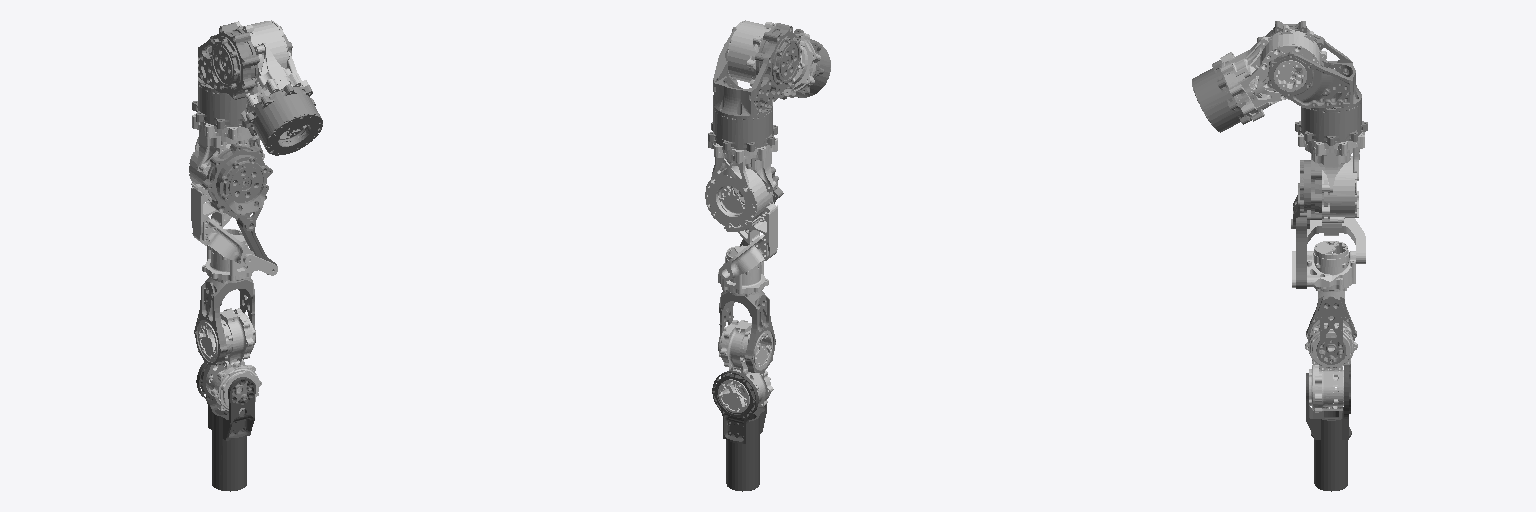
The robot description file, URDF, robot "raipal_stub-0_L":
<?xml version="1.0" encoding="utf-8"?>
<robot name="raipal_stub-0_L">
  <!-- [URDF-WRITER] Created with urdf-writer script (by CHH) on 2026-01-27 21:55:36.753710-->

  <!-- [URDF-WRITER] from module [_fixed-base] -->

  <!-- this link makes the robot fixed-base in RAISIM -->
  <link name="world"></link>

  <link name="base"></link>

  <joint name="base_fix" type="fixed">
    <origin xyz="0 0 0.8" rpy="0 0 0"/>
    <parent link="world" />
    <child link="base" />
    <axis xyz="0 0 0" />
  </joint>


  <!-- [URDF-WRITER] from module [raipal_L] -->

  <link name="L_base">
    <!-- CHH / 2025-09-01-20:14 -->
    <!-- mirrored from [L_base] (frame: R0_base)-->
    <inertial>
      <origin 
        xyz="-0.00013000 0.06389000 -0.05559000"
        rpy="0 0 0" />
      <mass value="0.79658000" />
      <inertia
          ixx="0.00074742"
          ixy="-1.892780e-6"
          ixz="-1.179560e-6"
          iyy="0.00098187"
          iyz="0.00013334"
          izz="0.00082394" />
    </inertial>
    <visual>
      <origin
        xyz="0 0 0"
        rpy="0 0 0" />
      <geometry>
        <mesh filename="../meshes/L_base.STL" />
      </geometry>
      <material name="">
        <color rgba=".6 .6 .6 1" />
      </material>
    </visual>
    <!--</collision>
      <origin
        xyz="0 0 0"
        rpy="0 0 0" />
      <geometry>
        <mesh filename="../meshes/L_base.STL" />
      </geometry>
    </collision>-->
  </link>

  <joint name="L_fix" type="fixed">
    <origin xyz="0 0 0" rpy="0 0 0"/>
    <parent link="base" />
    <child link="L_base" />
    <axis xyz="0 0 0" />
  </joint>

  <link name="L_collar">
    <!-- CHH / 2025-09-01-20:14 -->
    <!-- mirrored from [L_collar] (frame: R1_flexion)-->
    <inertial>
      <origin 
        xyz="0.00471000 1.000000e-5 0.10057000"
        rpy="0 0 0" />
      <mass value="1.72283000" />
      <inertia
          ixx="0.00466072"
          ixy="-5.127800e-7"
          ixz="-0.00028338"
          iyy="0.00434837"
          iyz="-8.010400e-7"
          izz="0.00167296" />
    </inertial>
    <visual>
      <origin
        xyz="0 0 0"
        rpy="0 0 0" />
      <geometry>
        <mesh filename="../meshes/L_collar.STL" />
      </geometry>
      <material name="">
        <color rgba="0.8 0.8 0.8 1" />
      </material>
    </visual>
    <!--</collision>
      <origin
        xyz="0 0 0"
        rpy="0 0 0" />
      <geometry>
        <mesh filename="../meshes/L_collar.STL" />
      </geometry>
    </collision>-->
  </link>

  <joint name="L1_flexion" type="revolute"> <!--[0]-->
    <origin
      xyz="0 0.037198 -0.0709"
      rpy="-1.0472 0 0" />
    <parent link="L_base" />
    <child link="L_collar" />
    <axis
      xyz="0 0 -1" />
    <limit
      lower="-1.57"
      upper="3.14"
      effort="181"
      velocity="13.9" />
    <dynamics rotor_inertia = "0.0576402034658611" />
    <!-- Calculated by CHH on 2025-09-01-20:14-->  
  </joint>

  <link name="L_shoulder">
    <!-- CHH / 2025-09-01-20:14 -->
    <!-- mirrored from [L_shoulder] (frame: R2_adduction)-->
    <inertial>
      <origin 
        xyz="-0.03309000 -0.04277000 0.04408000"
        rpy="0 0 0" />
      <mass value="1.92988000" />
      <inertia
          ixx="0.00554587"
          ixy="-0.00224326"
          ixz="-0.00046924"
          iyy="0.00422168"
          iyz="-0.00058524"
          izz="0.00699049" />
    </inertial>
    <visual>
      <origin
        xyz="0 0 0"
        rpy="0 0 0" />
      <geometry>
        <mesh filename="../meshes/L_shoulder.STL" />
      </geometry>
      <material name="">
        <color rgba="0.6 0.6 0.6 1" />
      </material>
    </visual>
    <!--</collision>
      <origin
        xyz="0 0 0"
        rpy="0 0 0" />
      <geometry>
        <mesh filename="../meshes/L_shoulder.STL" />
      </geometry>
    </collision>-->
  </link>

  <joint name="L2_adduction" type="revolute"> <!--[1]-->
    <origin
      xyz="0.0373 0 0.1418"
      rpy="1.5707963267949 1.0472 -1.5707963267949" />
    <parent link="L_collar" />
    <child link="L_shoulder" />
    <axis
      xyz="0 0 1" />
    <limit
      lower="-2.618"
      upper="0.488"
      effort="181"
      velocity="13.9" />
    <dynamics rotor_inertia = "0.0576402034658611" /> <!-- CHH / 2025-09-01-20:30-->
  </joint>

  <link name="L_humerus">
    <!-- CHH / 2025-09-01-20:14 -->
    <!-- mirrored from [L_humerus] (frame: R3_rotation)-->
    <inertial>
      <origin 
        xyz="-0.00369000 -0.00351000 0.11625000"
        rpy="0 0 0" />
      <mass value="1.96262000" />
      <inertia
          ixx="0.00777442"
          ixy="1.197057e-5"
          ixz="0.00065917"
          iyy="0.00822155"
          iyz="0.00015972"
          izz="0.00201683" />
    </inertial>
    <visual>
      <origin
        xyz="0 0 0"
        rpy="0 0 0" />
      <geometry>
        <mesh filename="../meshes/L_humerus.STL" />
      </geometry>
      <material name="">
        <color rgba="0.8 0.8 0.8 1" />
      </material>
    </visual>
    <!--</collision>
      <origin
        xyz="0 0 0"
        rpy="0 0 0" />
      <geometry>
        <mesh filename="../meshes/L_humerus.STL" />
      </geometry>
    </collision>-->
  </link>

  <joint name="L3_rotation" type="revolute"> <!--[2]-->
    <origin
      xyz="-0.06 -0.06025 0.0373"
      rpy="1.5707963267949 1.5707963267949 0" />
    <parent link="L_shoulder" />
    <child link="L_humerus" />
    <axis
      xyz="0 0 1" />
    <limit
      lower="-3.14"
      upper="3.14"
      effort="181"
      velocity="13.9" />
    <dynamics rotor_inertia = "0.0576402034658611" /> <!-- CHH / 2025-09-01-20:30-->
  </joint>

  <link name="L_elb_input">
    <!-- CHH / 2025-09-01-20:14 -->
    <!-- mirrored from [L_elb_input] (frame: R4a_elbow_power)-->
    <inertial>
      <origin 
        xyz="-2.000000e-5 -0.00335000 0.05897000"
        rpy="0 0 0" />
      <mass value="0.83412000" />
      <inertia
          ixx="0.00071114"
          ixy="-7.660000e-7"
          ixz="-9.255500e-7"
          iyy="0.00059983"
          iyz="5.504818e-5"
          izz="0.00080767" />
    </inertial>
    <visual>
      <origin
        xyz="0 0 0"
        rpy="0 0 0" />
      <geometry>
        <mesh filename="../meshes/L_elb_input.STL" />
      </geometry>
      <material name="">
        <color rgba="0.6 0.6 0.6 1" />
      </material>
    </visual>
    <!--</collision>
      <origin
        xyz="0 0 0"
        rpy="0 0 0" />
      <geometry>
        <mesh filename="../meshes/L_elb_input.STL" />
      </geometry>
    </collision>-->
  </link>

  <joint name="L4a_elbow_power" type="revolute"> <!--[3]-->
    <origin
      xyz="0 -0.0373 0.1418"
      rpy="-1.5707963267949 0 0" />
    <parent link="L_humerus" />
    <child link="L_elb_input" />
    <axis
      xyz="0 0 -1" />
    <limit
      lower="0"
      upper="1.556"
      effort="181"
      velocity="13.9" />
    <dynamics rotor_inertia = "0.0576402034658611" /> <!-- CHH / 2025-09-01-20:30-->
  </joint>

  <link name="L_elb_bar">
    <!-- CHH / 2025-09-01-20:14 -->
    <!-- mirrored from [L_elb_bar] (frame: R4b_elbow_bar_input)-->
    <inertial>
      <origin 
        xyz="0.04274000 -0.00159000 -4.000000e-5"
        rpy="0 0 0" />
      <mass value="0.05314000" />
      <inertia
          ixx="2.335610e-6"
          ixy="0.0"
          ixz="0.0"
          iyy="6.149582e-5"
          iyz="3.110000e-9"
          izz="6.199993e-5" />
    </inertial>
    <visual>
      <origin
        xyz="0 0 0"
        rpy="0 0 0" />
      <geometry>
        <mesh filename="../meshes/L_elb_bar.STL" />
      </geometry>
      <material name="">
        <color rgba="0.5 0.5 0.5 1" />
      </material>
    </visual>
    <!--</collision>
      <origin
        xyz="0 0 0"
        rpy="0 0 0" />
      <geometry>
        <mesh filename="../meshes/L_elb_bar.STL" />
      </geometry>
    </collision>-->
  </link>

  <joint name="L4b_elbow_bar_input" type="revolute">  <!--[4-unpowered]-->
    <origin
      xyz="0.00134978286029327 -0.0599848154638326 0.0812119041053838"
      rpy="0 0 -1.12941902735751" />
    <parent link="L_elb_input" />
    <child link="L_elb_bar" />
    <axis
      xyz="0 0 1" />
    <limit
      lower="0"
      upper="1.802"
      effort="0"
      velocity="100" />
  </joint>

  <link name="L_ulna">
    <!-- CHH / 2025-09-01-20:14 -->
    <!-- mirrored from [L_ulna] (frame: R4_elbow)-->
    <inertial>
      <origin 
        xyz="0.00533000 -0.01576000 -0.03891000"
        rpy="0 0 0" />
      <mass value="0.36947000" />
      <inertia
          ixx="0.00032310"
          ixy="1.385696e-5"
          ixz="-4.244104e-5"
          iyy="0.00036383"
          iyz="5.919040e-6"
          izz="0.00020708" />
    </inertial>
    <visual>
      <origin
        xyz="0 0 0"
        rpy="0 0 0" />
      <geometry>
        <mesh filename="../meshes/L_ulna.STL" />
      </geometry>
      <material name="">
        <color rgba="0.8 0.8 0.8 1" />
      </material>
    </visual>
    <!--</collision>
      <origin
        xyz="0 0 0"
        rpy="0 0 0" />
      <geometry>
        <mesh filename="../meshes/L_ulna.STL" />
      </geometry>
    </collision>-->
  </link>

  <joint name="L4_elbow" type="revolute">  <!--[5-unpowered]-->
    <origin
      xyz="0 0.043912 0.25475"
      rpy="-1.5707963267949 0 0" />
    <parent link="L_humerus" />
    <child link="L_ulna" />
    <axis
      xyz="0 0 1" />
    <limit
      lower="0"
      upper="2.2689"
      effort="0"
      velocity="100" />
  </joint>

  <link name="L_radius">
    <!-- CHH / 2025-09-01-20:14 -->
    <!-- link name: [L_radius]-->
    <!-- frame: [L5_roll]-->
    <inertial>
      <origin 
        xyz="0.00151000 0.0 0.10290000"
        rpy="0 0 0" />
      <mass value="0.42307000" />
      <inertia
          ixx="0.00112662"
          ixy="1.975000e-8"
          ixz="-5.589578e-5"
          iyy="0.00120471"
          iyz="-1.556000e-8"
          izz="0.00024138" />
    </inertial>
    <visual>
      <origin
        xyz="0 0 0"
        rpy="0 0 0" />
      <geometry>
        <mesh filename="../meshes/L_radius.STL" />
      </geometry>
      <material name="">
        <color rgba="0.6 0.6 0.6 1" />
      </material>
    </visual>
    <!--<collision>
      <origin
        xyz="0 0 0"
        rpy="0 0 0" />
      <geometry>
        <mesh filename="../meshes/L_radius.STL" />
      </geometry>
    </collision>-->
  </link>

  <joint name="L5_roll" type="revolute"> <!--[6]-->
    <origin
      xyz="0 0.0135819531869474 -0.0439119041053754"
      rpy="1.5707963267949 0 0" />
    <parent link="L_ulna" />
    <child link="L_radius" />
    <axis
      xyz="0 0 1" />
    <limit
      lower="-1.57"
      upper="1.57"
      effort="12.61"
      velocity="53.8" />
    <dynamics rotor_inertia = "0.000540543349430043" /> <!-- CHH / 2025-09-01-20:30-->
  </joint>

  <link name="L_carpal">
    <!-- CHH / 2025-09-01-20:14 -->
    <!-- link name: [L_carpal]-->
    <!-- frame: [L6_pitch]-->
    <inertial>
      <origin 
        xyz="-0.00117000 -0.03421000 0.02964000"
        rpy="0 0 0" />
      <mass value="0.67981000" />
      <inertia
          ixx="0.00128813"
          ixy="-3.134577e-5"
          ixz="3.268690e-6"
          iyy="0.00040998"
          iyz="9.323146e-5"
          izz="0.00126953" />
    </inertial>
    <visual>
      <origin
        xyz="0 0 0"
        rpy="0 0 0" />
      <geometry>
        <mesh filename="../meshes/L_carpal.STL" />
      </geometry>
      <material name="">
        <color rgba="0.8 0.8 0.8 1" />
      </material>
    </visual>
    <!--<collision>
      <origin
        xyz="0 0 0"
        rpy="0 0 0" />
      <geometry>
        <mesh filename="../meshes/L_carpal.STL" />
      </geometry>
    </collision>-->
  </link>

  <joint name="L6_pitch" type="revolute"> <!--[7]-->
    <origin
      xyz="-0.0337 0 0.153581953186935"
      rpy="-1.5707963267949 0 -1.5707963267949" />
    <parent link="L_radius" />
    <child link="L_carpal" />
    <axis
      xyz="0 0 -1" />
    <limit
      lower="-2.0944"
      upper="2.0944"
      effort="12.61"
      velocity="53.8" />
    <dynamics rotor_inertia = "0.000540543349430043" /> <!-- CHH / 2025-09-01-20:30-->
  </joint>

  <link name="L_ee">
    <!-- CHH / 2025-09-01-20:14 -->
    <!-- link name: [L_ee]-->
    <!-- frame: [L7_yaw]-->
    <inertial>
      <origin 
        xyz="0.0 0.0 0.04531000"
        rpy="0 0 0" />
      <mass value="0.13143000" />
      <inertia
          ixx="3.339173e-5"
          ixy="0.0"
          ixz="0.0"
          iyy="3.339173e-5"
          iyz="0.0"
          izz="4.133016e-5" />
    </inertial>
    <visual>
      <origin
        xyz="0 0 0"
        rpy="0 0 0" />
      <geometry>
        <mesh filename="../meshes/L_ee.STL" />
      </geometry>
      <material name="">
        <color rgba="0.6 0.6 0.6 1" />
      </material>
    </visual>
    <!--<collision>
      <origin
        xyz="0 0 0"
        rpy="0 0 0" />
      <geometry>
        <mesh filename="../meshes/L_ee.STL" />
      </geometry>
    </collision>-->
  </link>

  <joint name="L7_yaw" type="revolute"> <!--[8]-->
    <origin
      xyz="0.0264 -0.073 0.0337"
      rpy="0 -1.5707963267949 0" />
    <parent link="L_carpal" />
    <child link="L_ee" />
    <axis
      xyz="0 0 1" />
    <limit
      lower="-1.57079"
      upper="1.57079"
      effort="12.61"
      velocity="53.8" />
    <dynamics rotor_inertia = "0.000540543349430043" /> <!-- CHH / 2025-09-01-20:30-->
  </joint>

  <!-- imaginary links for loop closure -->
  <link name="L_loop_barside"></link>

  <joint name="L4cA_elbow_loop_bar" type="fixed">
    <origin
      xyz="0.0854747786370337 0 0"
      rpy="0 0 0" />
    <parent link="L_elb_bar" />
    <child link="L_loop_barside" />
    <axis
      xyz="0 0 -1" />
    <limit
      lower="-3.14"
      upper="3.14"
      effort="0"
      velocity="100" />
  </joint>

  <link name="L_loop_ulnaside"></link>

  <joint name="L4cB_elbow_loop_ulna_fixed" type="fixed">
    <origin
      xyz="0.0378633410992504 -0.0243180468130526 0"
      rpy="0 0 -1.12941902735751" />
    <parent link="L_ulna" />
    <child link="L_loop_ulnaside" />
    <axis
      xyz="0 0 0" />
  </joint>

  

  <!-- [URDF-WRITER] from module [stub-0_L] -->
  <link name="L_stub">
    <!-- CHH / 2025-10-17-21:24 -->
    <!-- link name: [stub-0]-->
    <!-- frame: [RE_end-effector]-->
    <inertial>
      <origin 
        xyz="0.0 -0.06296000 0.02373000"
        rpy="0 0 0" />
      <mass value="0.36027000" />
      <inertia
          ixx="0.00101582"
          ixy="0.0"
          ixz="0.0"
          iyy="0.00024407"
          iyz="7.755489e-5"
          izz="0.00097350" />
    </inertial>

    <visual>
      <origin
        xyz="0 0 0"
        rpy="0 0 0" />
      <geometry>
        <mesh filename="../meshes/stub_0.STL" />
      </geometry>
      <material name="">
        <color rgba="0.4 0.4 0.4 1" />
      </material>
    </visual>
  </link>

  <joint name="LE_end_effector_fixed" type="fixed">
    <origin
      xyz="0 0 0"
      rpy="0 0 0" />
    <parent link="L_ee" />
    <child link="L_stub" />
    <axis
      xyz="0 0 0" />
  </joint>

  <link name="L_stub-tip"></link>

  <joint name="LE_tip_fixed" type="fixed">
    <origin
      xyz="0 -0.157 0.0264"
      rpy="+1.5708 0 0" />
    <parent link="L_stub" />
    <child link="L_stub-tip" />
    <axis
      xyz="0 0 0" />
  </joint>
  <!-- [URDF-WRITER] merged constraints -->
  <constraints nominal_config="0 0 0 0 0 0 0 0 0 0 0 0 0 0 0 0 0 0 0 0 0">
    <pin body1="L_loop_barside" body2="L_loop_ulnaside" anchor="0.0 0.0 0.0"/>
  </constraints>

</robot>

--- What the picture shows (computed from the rendered views, not written in the file) ---
3 views of the same robot in one strip: view 1: azimuth 30°, elevation 25°; view 2: azimuth 150°, elevation 25°; view 3: azimuth 270°, elevation 25° (orthographic).
Robot: raipal_stub-0_L — 16 links, 15 joints (9 revolute, 6 fixed); root link world; default pose: every joint at zero.
Visible links, largest first — view 1: L_shoulder, L_humerus, L_stub, L_elb_input, L_base, L_carpal, L_collar, L_radius, L_ulna; view 2: L_shoulder, L_humerus, L_stub, L_carpal, L_collar, L_radius, L_ulna, L_base; view 3: L_shoulder, L_collar, L_humerus, L_stub, L_carpal, L_ulna, L_base, L_radius, L_elb_input, L_elb_bar.
Boxes of the visible links, x1,y1,x2,y2 form: L_shoulder: (192, 23, 292, 128); L_humerus: (189, 114, 264, 266); L_stub: (196, 361, 255, 491); L_elb_input: (202, 143, 272, 231); L_base: (246, 84, 322, 155); L_carpal: (198, 308, 261, 413); L_collar: (231, 20, 309, 123); L_radius: (194, 277, 255, 365); L_ulna: (202, 229, 277, 283); L_shoulder: (708, 23, 801, 151); L_humerus: (705, 138, 777, 280); L_stub: (712, 371, 766, 491); L_carpal: (718, 320, 773, 412); L_collar: (727, 20, 820, 97); L_radius: (718, 291, 775, 373); L_ulna: (718, 245, 768, 296); L_base: (779, 29, 830, 99); L_shoulder: (1257, 21, 1367, 145); L_collar: (1220, 25, 1326, 121); L_humerus: (1298, 132, 1365, 263); L_stub: (1306, 364, 1351, 491); L_carpal: (1305, 316, 1357, 412); L_ulna: (1292, 241, 1355, 291); L_base: (1192, 60, 1251, 132); L_radius: (1306, 291, 1356, 364); L_elb_input: (1291, 154, 1321, 228); L_elb_bar: (1296, 217, 1306, 288).
Size in the robot's own frame: 0.108 by 0.2589 by 0.7385 metres.
Meshes: 11 distinct files referenced, 11 mesh visuals loaded (11 binary STL).
